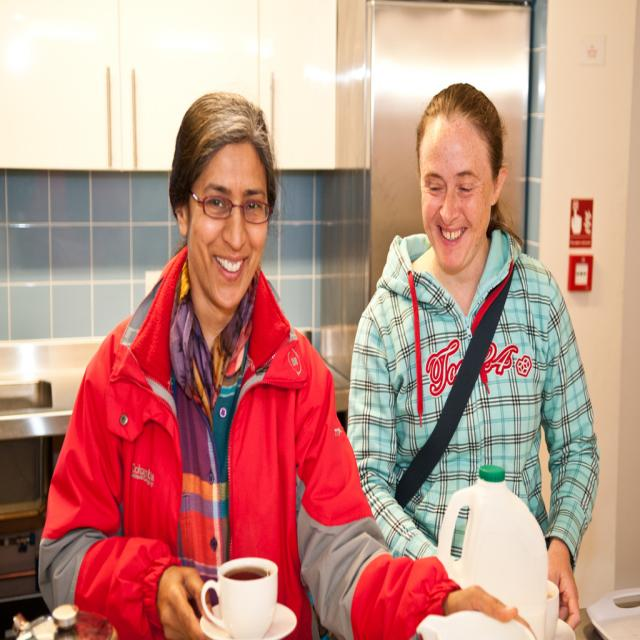Coffee: (224, 565, 270, 582)
Tea: (226, 563, 264, 580)
